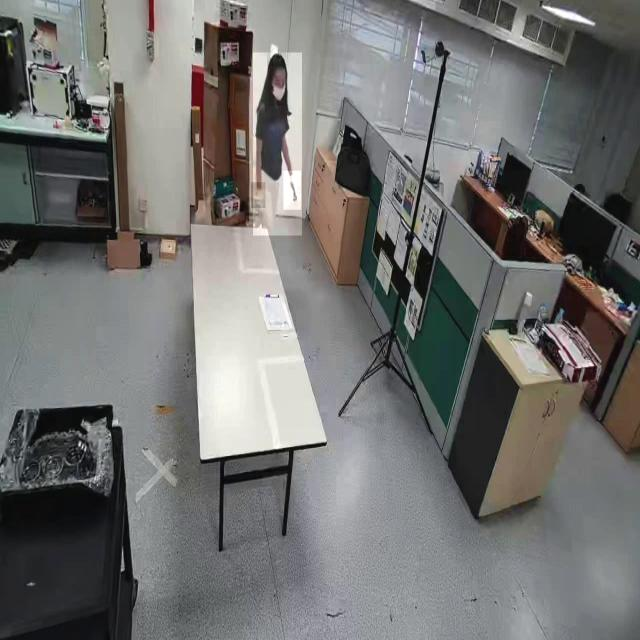face_mask: (269, 66, 287, 106)
hand_glove: (284, 170, 302, 210), (251, 182, 266, 209)
head_nohelmet: (267, 52, 287, 68)
person: (253, 52, 303, 236)
